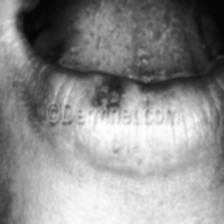Potentially Malignant Skin Tumors: (94, 78, 128, 108)
